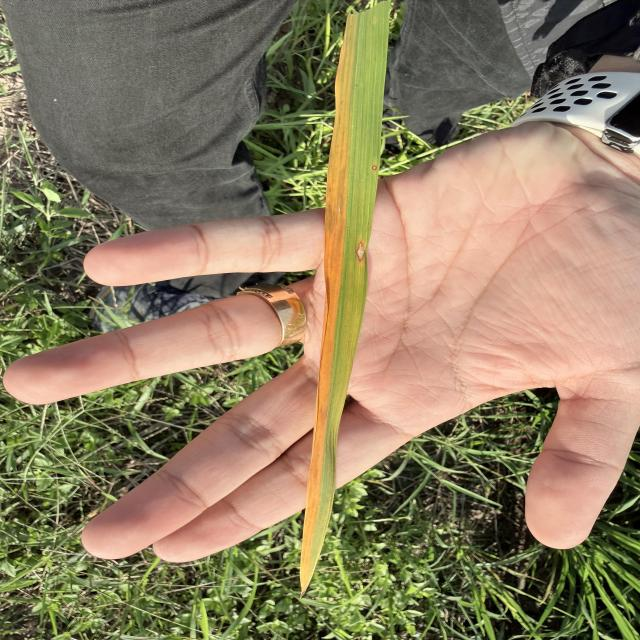Chay bia la: (299, 14, 355, 596)
